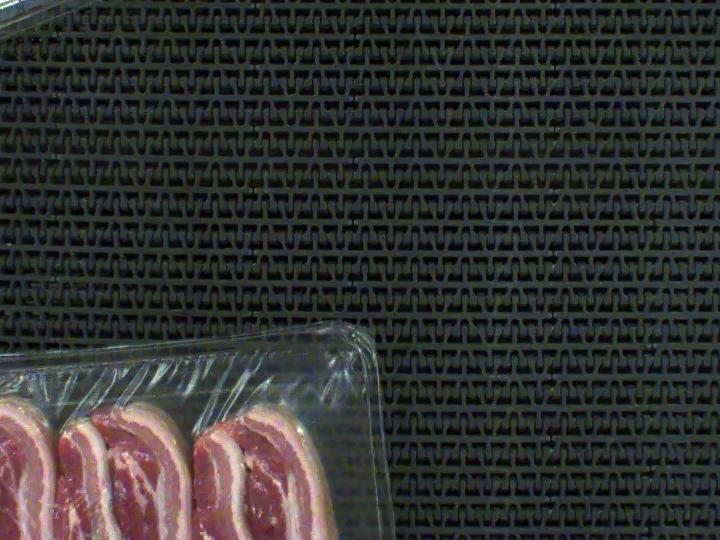unsealed: (0, 353, 353, 535)
